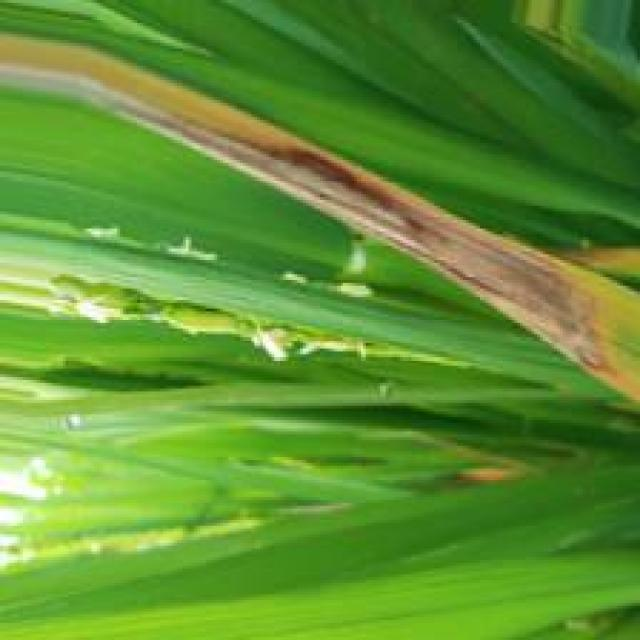Leaf_Scald: (81, 77, 610, 380)
